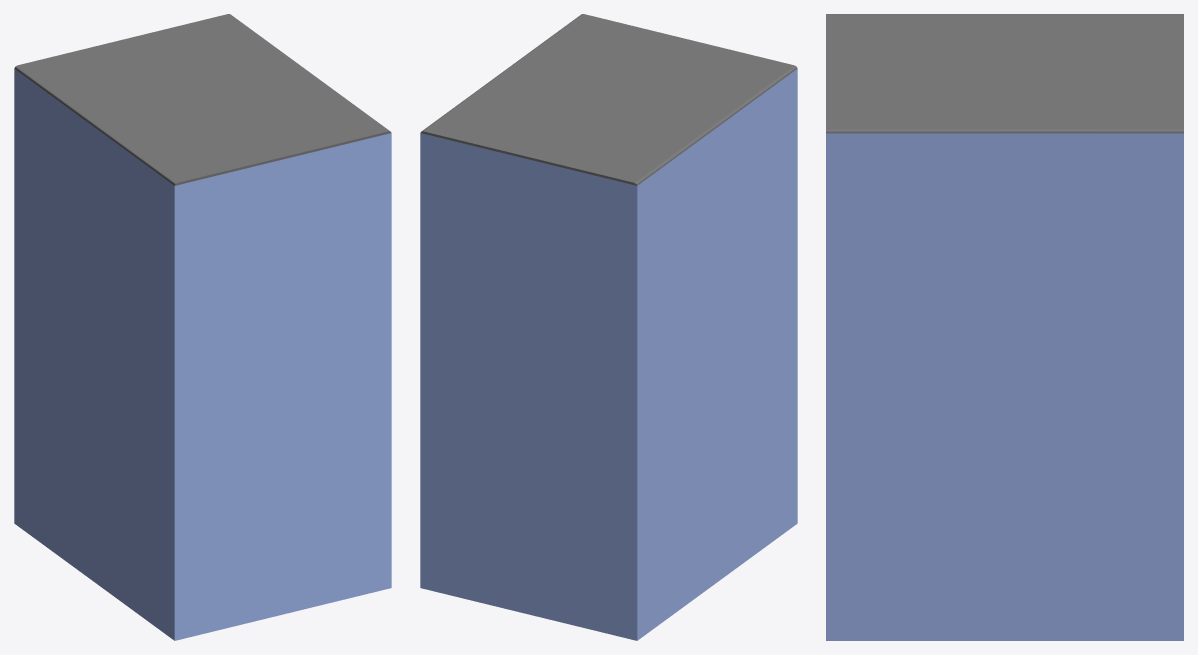
File: block_base.fbx
The picture shows the model from 3 angles, left to right: view 1: azimuth 30°, elevation 25°; view 2: azimuth 150°, elevation 25°; view 3: azimuth 270°, elevation 25°; orthographic projection. The views are drawn at different scales.
Parts seen in each view (by area): view 1: block_base; view 2: block_base; view 3: block_base.
Boxes of the visible parts, x1,y1,x2,y2 form: block_base: (14,14,391,640); block_base: (420,14,797,640); block_base: (826,14,1183,640).
Size of the model in its own units: 60.13 by 121 by 77.03.
